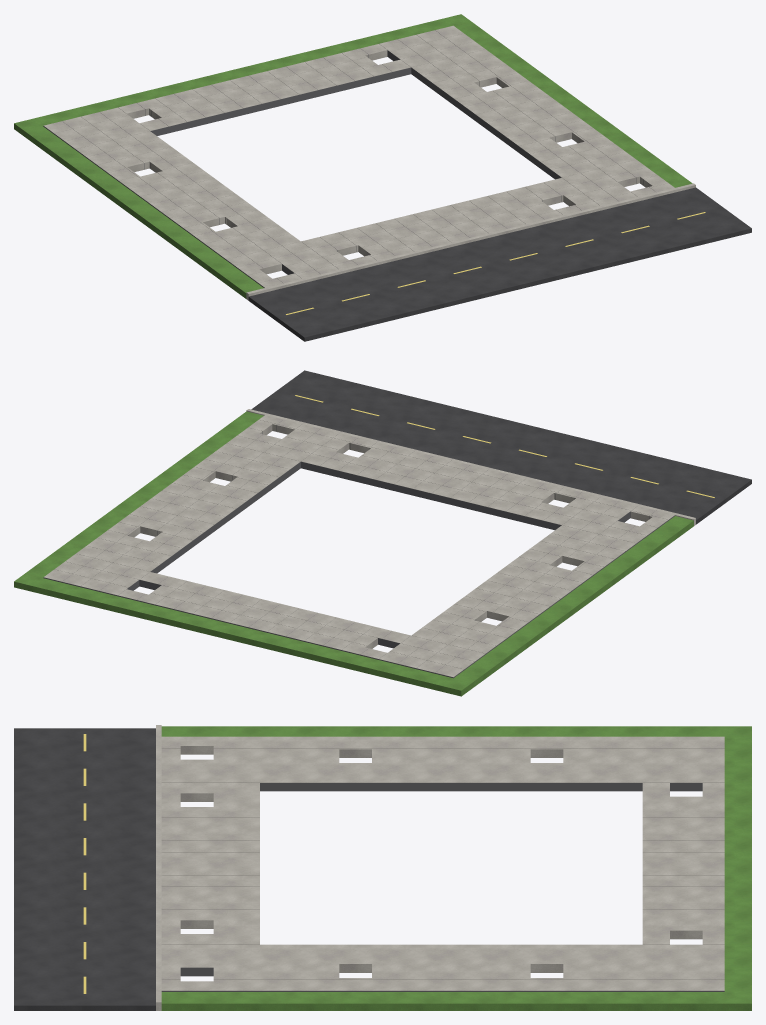
The model's file is site.glb.
The picture shows the model from 3 angles, top to bottom: view 1: azimuth 30°, elevation 25°; view 2: azimuth 150°, elevation 25°; view 3: azimuth 270°, elevation 25°; orthographic projection. The views are drawn at different scales.
Visible parts, largest first — view 1: site_concrete, site_asphalt, site_grass, site_dark, site_curb; view 2: site_concrete, site_asphalt, site_grass, site_dark, site_curb; view 3: site_concrete, site_asphalt, site_grass, site_dark, site_curb, site_paint_y.
Part boxes in pixels (x1=…): site_concrete: x1=44, y1=25, x2=674, y2=287; site_asphalt: x1=248, y1=187, x2=751, y2=341; site_grass: x1=14, y1=14, x2=692, y2=298; site_dark: x1=43, y1=50, x2=643, y2=287; site_curb: x1=246, y1=183, x2=695, y2=300; site_concrete: x1=44, y1=415, x2=674, y2=677; site_asphalt: x1=251, y1=370, x2=751, y2=524; site_grass: x1=14, y1=411, x2=693, y2=696; site_dark: x1=43, y1=425, x2=675, y2=678; site_curb: x1=246, y1=409, x2=695, y2=525; site_concrete: x1=161, y1=736, x2=724, y2=990; site_asphalt: x1=14, y1=728, x2=155, y2=1010; site_grass: x1=161, y1=726, x2=751, y2=1010; site_dark: x1=161, y1=783, x2=724, y2=991; site_curb: x1=156, y1=725, x2=161, y2=1010; site_paint_y: x1=83, y1=734, x2=86, y2=993.
Size of the model in its own units: 24 by 0.35 by 27.
6 materials, 4 textured.
